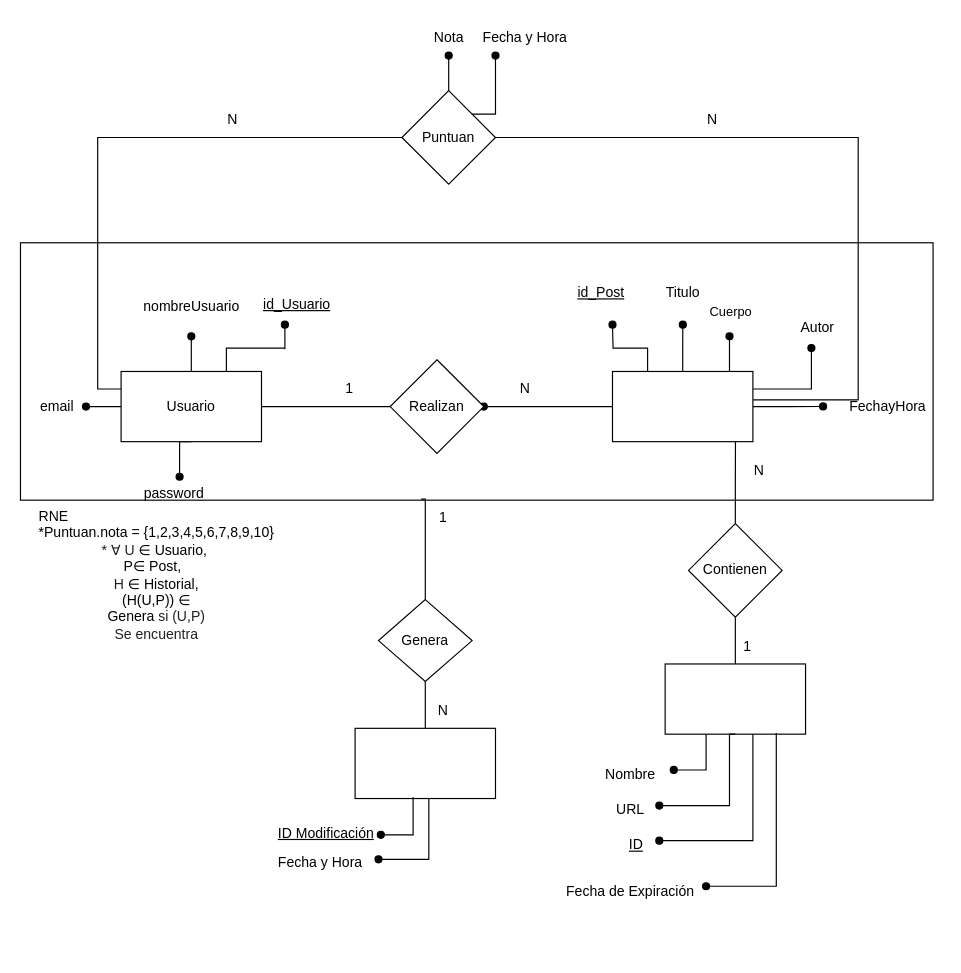
This 961x973 diagram has some shape labels left out. The centre of each missing label's shape, as x and y in pixels:
Historial: point (424, 763)
Post: point (682, 406)
Publicidad: point (735, 698)
